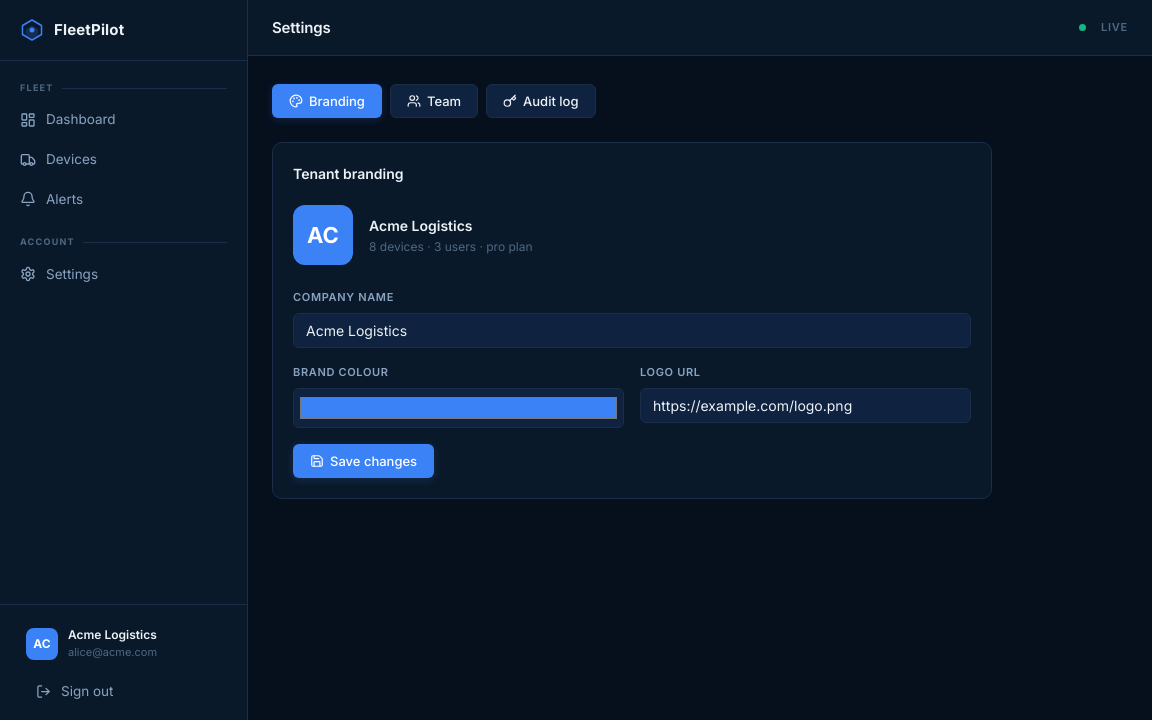
Scenario: Settings › switches to Audit log tab and shows log entries
Click the button "Audit log" at (541,101), box [486,84,596,118]
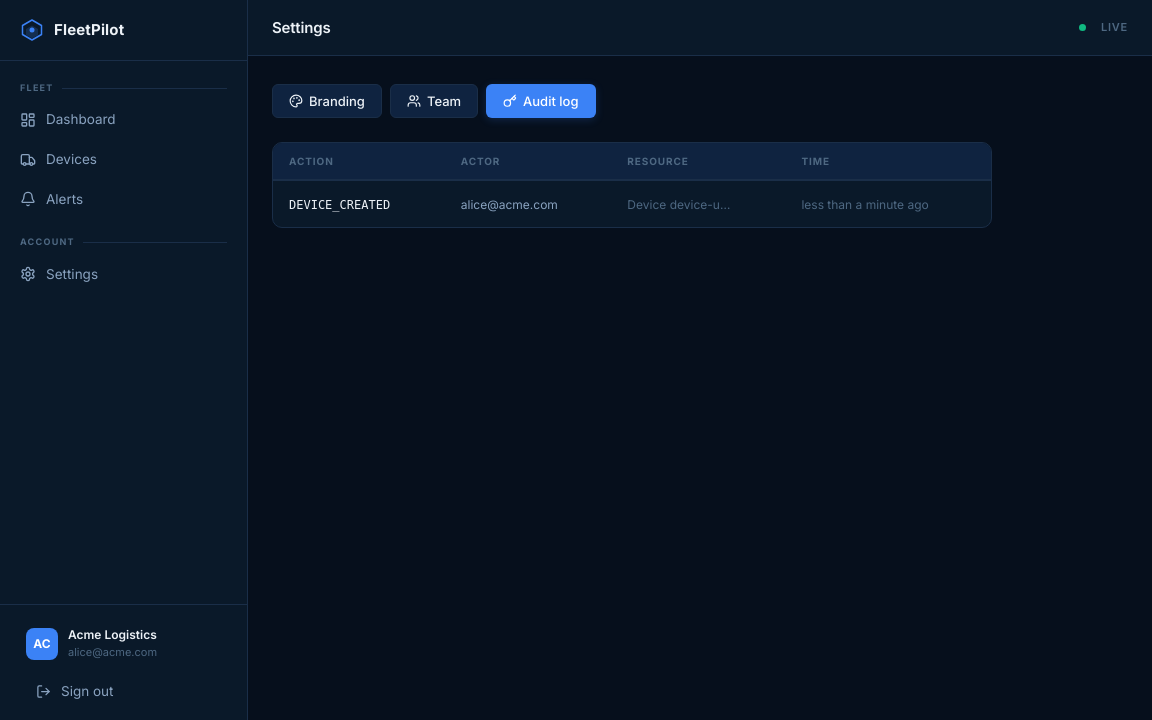
Now the text "DEVICE_CREATED" is shown, box [289,198,390,212]
